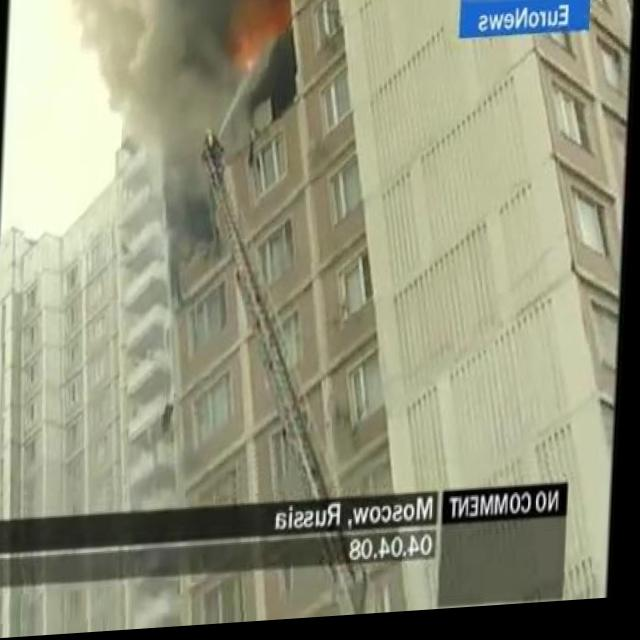fire: (242, 47, 257, 76)
